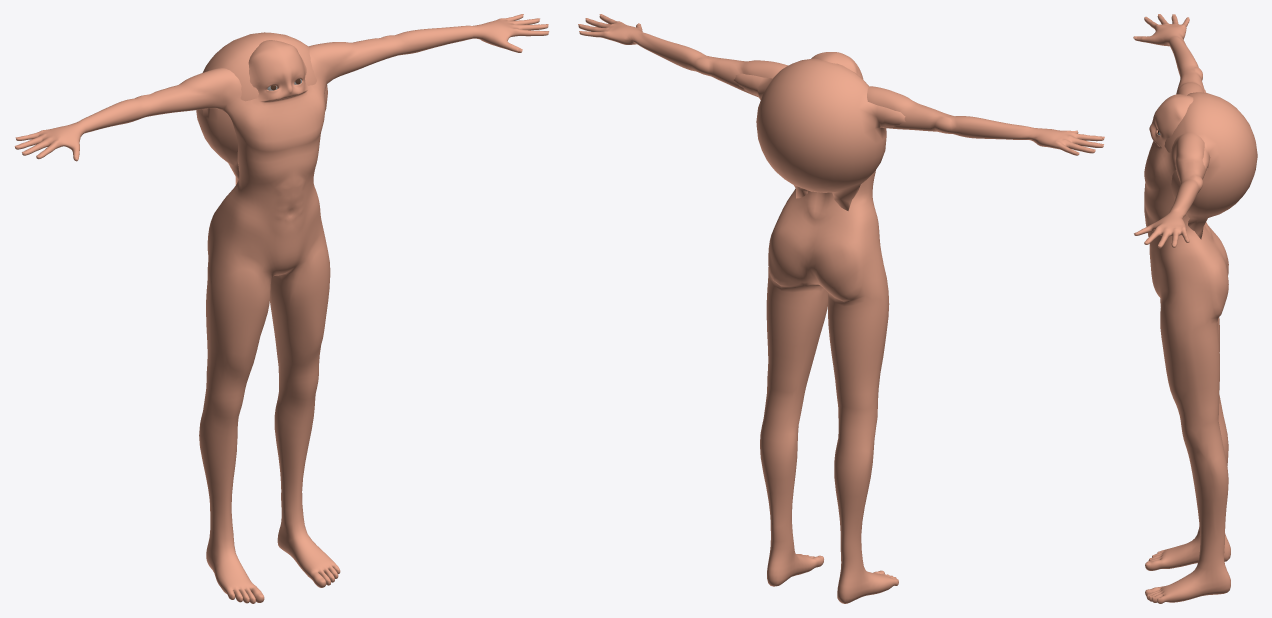
Rendered from MainCharacterMesh.fbx.
The picture shows the model from 3 angles, left to right: view 1: azimuth 30°, elevation 25°; view 2: azimuth 150°, elevation 25°; view 3: azimuth 270°, elevation 25°; orthographic projection. The views are drawn at different scales.
Visible parts, largest first — view 1: Body; view 2: Body; view 3: Body.
Boxes of the visible parts, <box> form: Body: <box>14,14,549,603</box>; Body: <box>578,14,1104,603</box>; Body: <box>1133,14,1257,603</box>.
Bounding box in the file's own units: 150 × 147 × 34.12.
